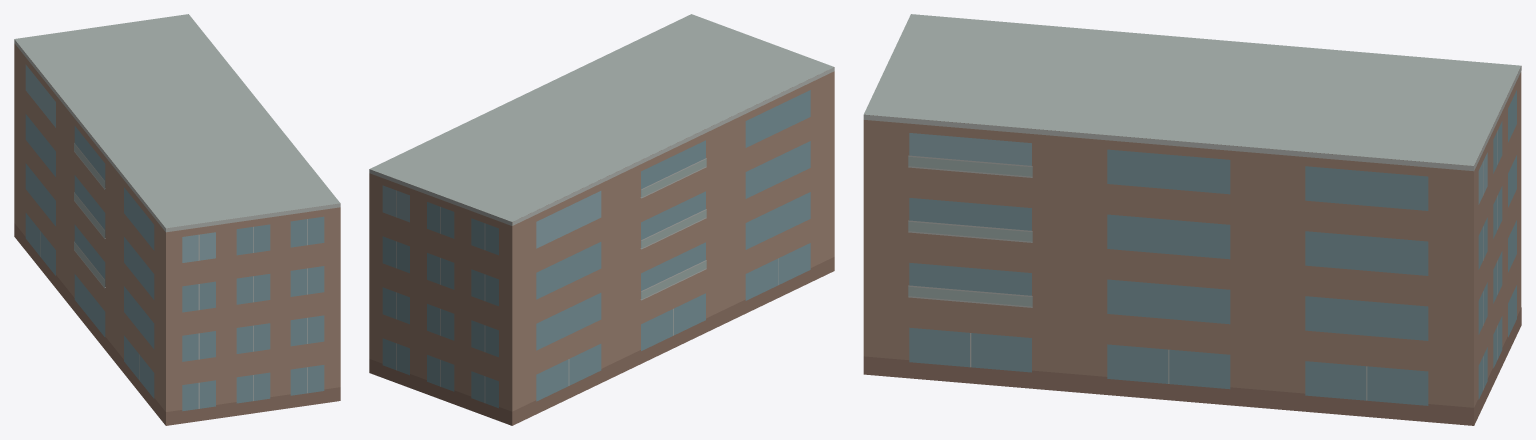
Rendered from residential-55a80dc1-3c7f-40be-b828-ccdae33df40c.glb.
3 renders of one model, left to right at view 1: azimuth 30°, elevation 25°; view 2: azimuth 150°, elevation 25°; view 3: azimuth 270°, elevation 25°, orthographic. The views are drawn at different scales.
Parts seen in each view (by area): view 1: residential-55a80dc1-3c7f-40be-b828-ccdae33df40c.tmp; view 2: residential-55a80dc1-3c7f-40be-b828-ccdae33df40c.tmp; view 3: residential-55a80dc1-3c7f-40be-b828-ccdae33df40c.tmp.
Part boxes in pixels (x1,y1,x2,y2): residential-55a80dc1-3c7f-40be-b828-ccdae33df40c.tmp: (14, 14, 340, 425); residential-55a80dc1-3c7f-40be-b828-ccdae33df40c.tmp: (369, 14, 834, 425); residential-55a80dc1-3c7f-40be-b828-ccdae33df40c.tmp: (863, 14, 1521, 425).
Size of the model in its own units: 15.31 by 12.2 by 28.
